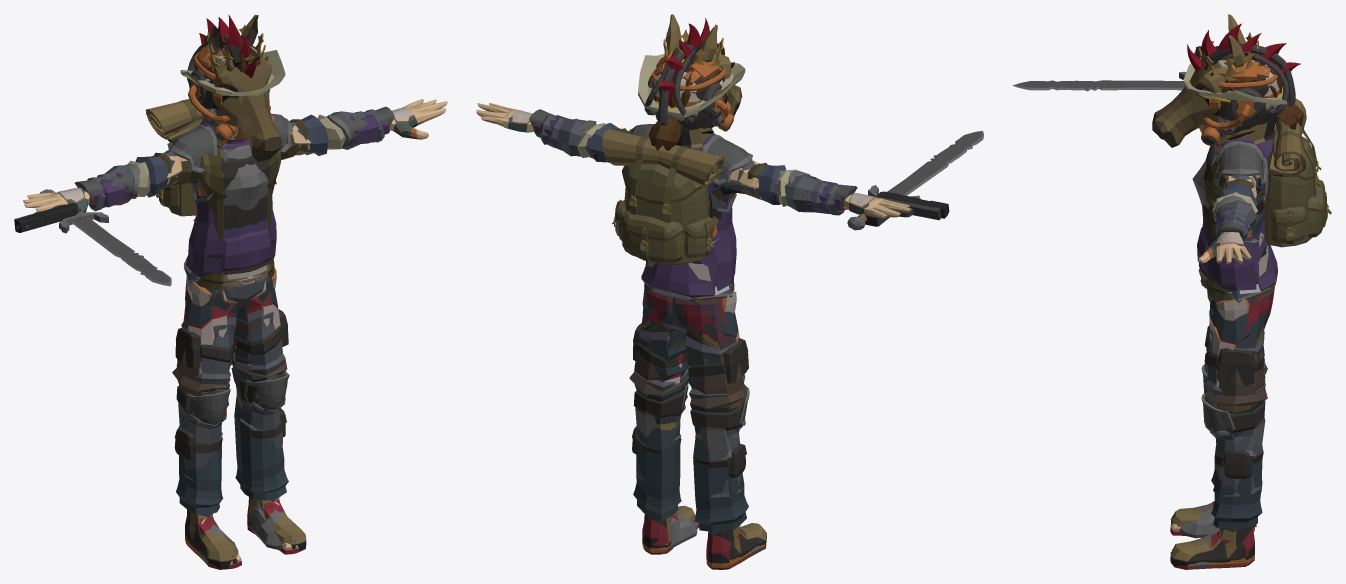
The model's file is Humans_Master.fbx.
3 views of the same model, side by side, from view 1: azimuth 30°, elevation 25°; view 2: azimuth 150°, elevation 25°; view 3: azimuth 270°, elevation 25° (orthographic). The views are drawn at different scales.
Parts seen in each view (by area): view 1: Swat_Legs, King_Body, Farmer_Pants, Casual_Body, Horse_Head, Adventurer_Body, King_Legs, Swat_Body, Backpack, SpaceSuit_Legs, Sword, SpaceSuit_Head (+10 smaller); view 2: Backpack, Farmer_Pants, Swat_Legs, King_Body, Casual_Body, King_Legs, SpaceSuit_Head, Swat_Body, Beach_Legs, Horse_Head, SpaceSuit_Legs, Sword (+14 smaller); view 3: Backpack, Swat_Legs, Horse_Head, King_Body, SpaceSuit_Head, Casual_Body, Farmer_Pants, King_Legs, Adventurer_Body, Sword, Farmer_Feet, Swat_Body (+13 smaller).
Part boxes in pixels (x1,y1,x2,y2): Swat_Legs: [174, 275, 288, 481]; King_Body: [74, 106, 394, 287]; Farmer_Pants: [176, 277, 288, 515]; Casual_Body: [24, 100, 447, 279]; Horse_Head: [201, 14, 282, 161]; Adventurer_Body: [23, 101, 447, 289]; King_Legs: [172, 349, 289, 439]; Swat_Body: [87, 109, 384, 274]; Backpack: [145, 99, 202, 216]; SpaceSuit_Legs: [177, 266, 282, 439]; Sword: [40, 189, 171, 286]; SpaceSuit_Head: [187, 34, 274, 142]; Backpack: [602, 129, 724, 264]; Farmer_Pants: [633, 308, 748, 531]; Swat_Legs: [632, 300, 748, 498]; King_Body: [529, 109, 857, 300]; Casual_Body: [481, 108, 911, 297]; King_Legs: [629, 322, 749, 465]; SpaceSuit_Head: [644, 44, 734, 131]; Swat_Body: [539, 114, 844, 286]; Beach_Legs: [641, 285, 735, 384]; Horse_Head: [665, 14, 742, 148]; SpaceSuit_Legs: [634, 283, 743, 438]; Sword: [847, 130, 983, 230]; Backpack: [1264, 98, 1331, 247]; Swat_Legs: [1204, 289, 1265, 497]; Horse_Head: [1152, 14, 1277, 147]; King_Body: [1192, 141, 1275, 302]; SpaceSuit_Head: [1199, 44, 1295, 145]; Casual_Body: [1197, 138, 1277, 291]; Farmer_Pants: [1211, 298, 1265, 529]; King_Legs: [1201, 347, 1267, 458]; Adventurer_Body: [1198, 144, 1273, 300]; Sword: [1012, 71, 1186, 93]; Farmer_Feet: [1171, 503, 1236, 561]; Swat_Body: [1199, 146, 1264, 283].
Size of the model in its own units: 176 by 197 by 109.
